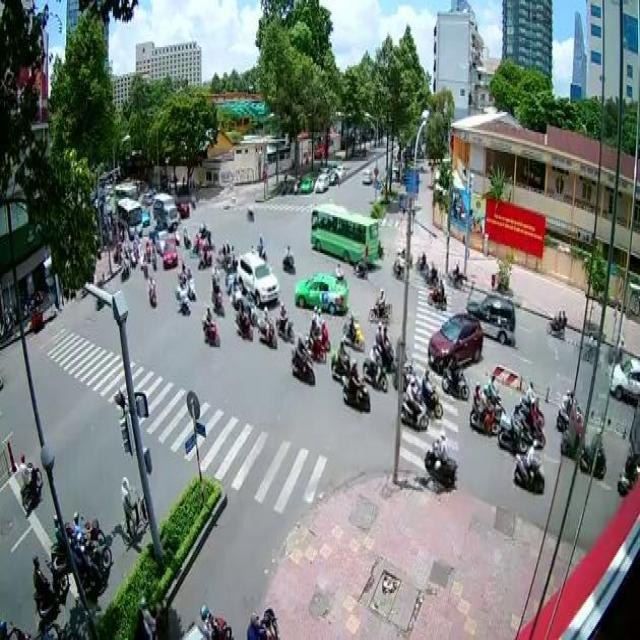bicycle: (120, 474, 148, 544)
car: (427, 311, 482, 374), (464, 293, 515, 343), (235, 252, 278, 308), (294, 269, 346, 313), (606, 354, 639, 400)
motorcycle: (514, 439, 545, 492), (340, 358, 369, 410), (289, 331, 315, 383), (441, 352, 469, 398), (340, 307, 364, 351), (199, 304, 220, 345), (233, 305, 253, 340)
truck: (310, 203, 378, 262)
